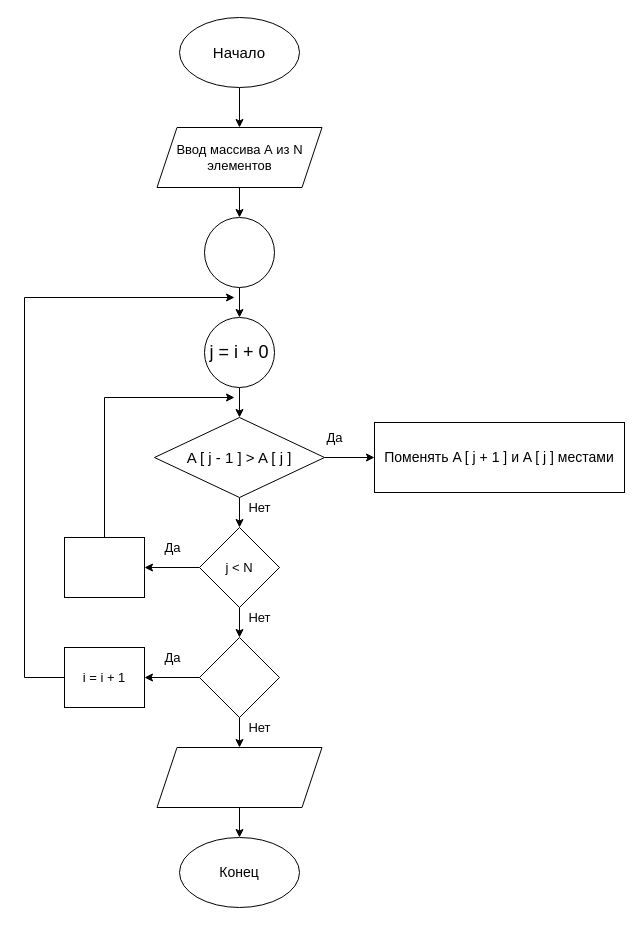
This 642x925 diagram has some shape labels left out. The box of each missing label's shape, as (x1, y1, x2, y2) in pixels:
i < N - 1: (198, 636, 280, 718)
i = 0: (204, 216, 274, 288)
j = j + 1: (64, 536, 144, 598)
Вывод массива А: (156, 746, 322, 808)
